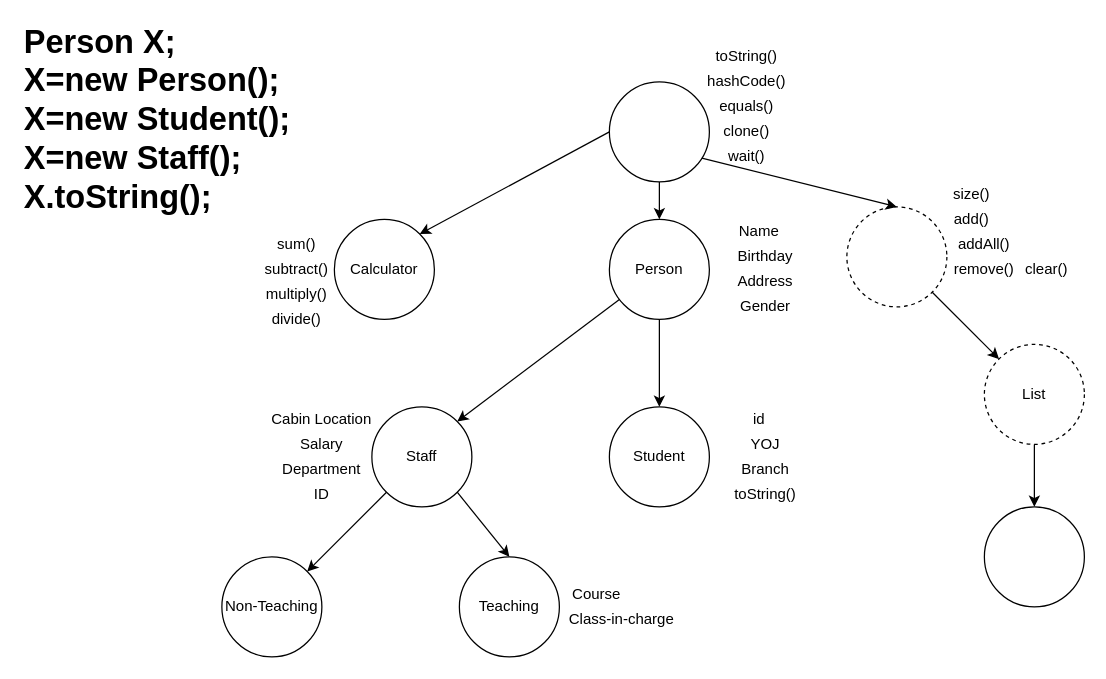
Image size: 1106x679. Some labels were removed from this diagram. The centre of each missing label's shape, as x and y in pixels:
ArrayList: pixel 1033 556
Collection: pixel 896 256
Object class: pixel 658 131
